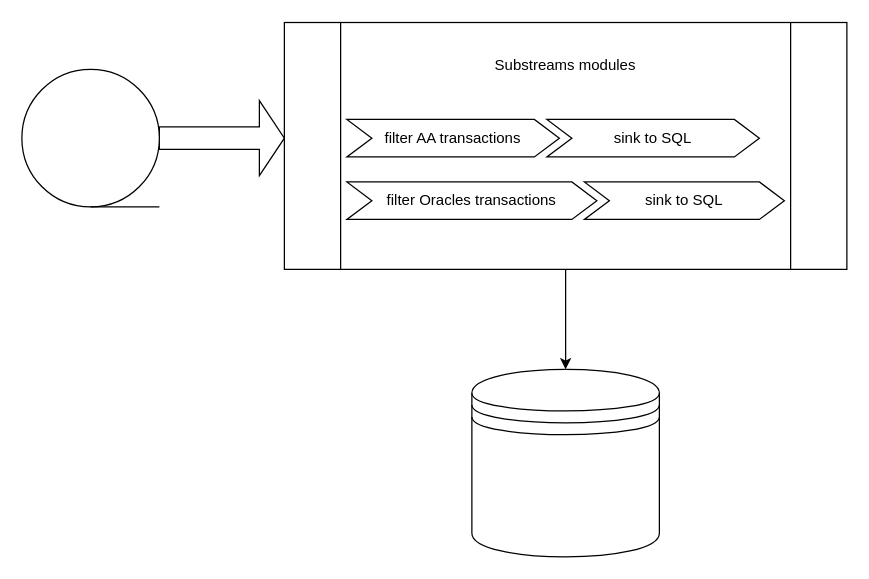
The diagram is 869 pixels wide and 579 high, and some of its shapes have lost their labels. The centre of each missing label's shape, as x and y in pixels:
"Firehose Node" goes at point 90,137.
"Postgres" goes at point 565,462.
"stream" goes at point 221,137.
